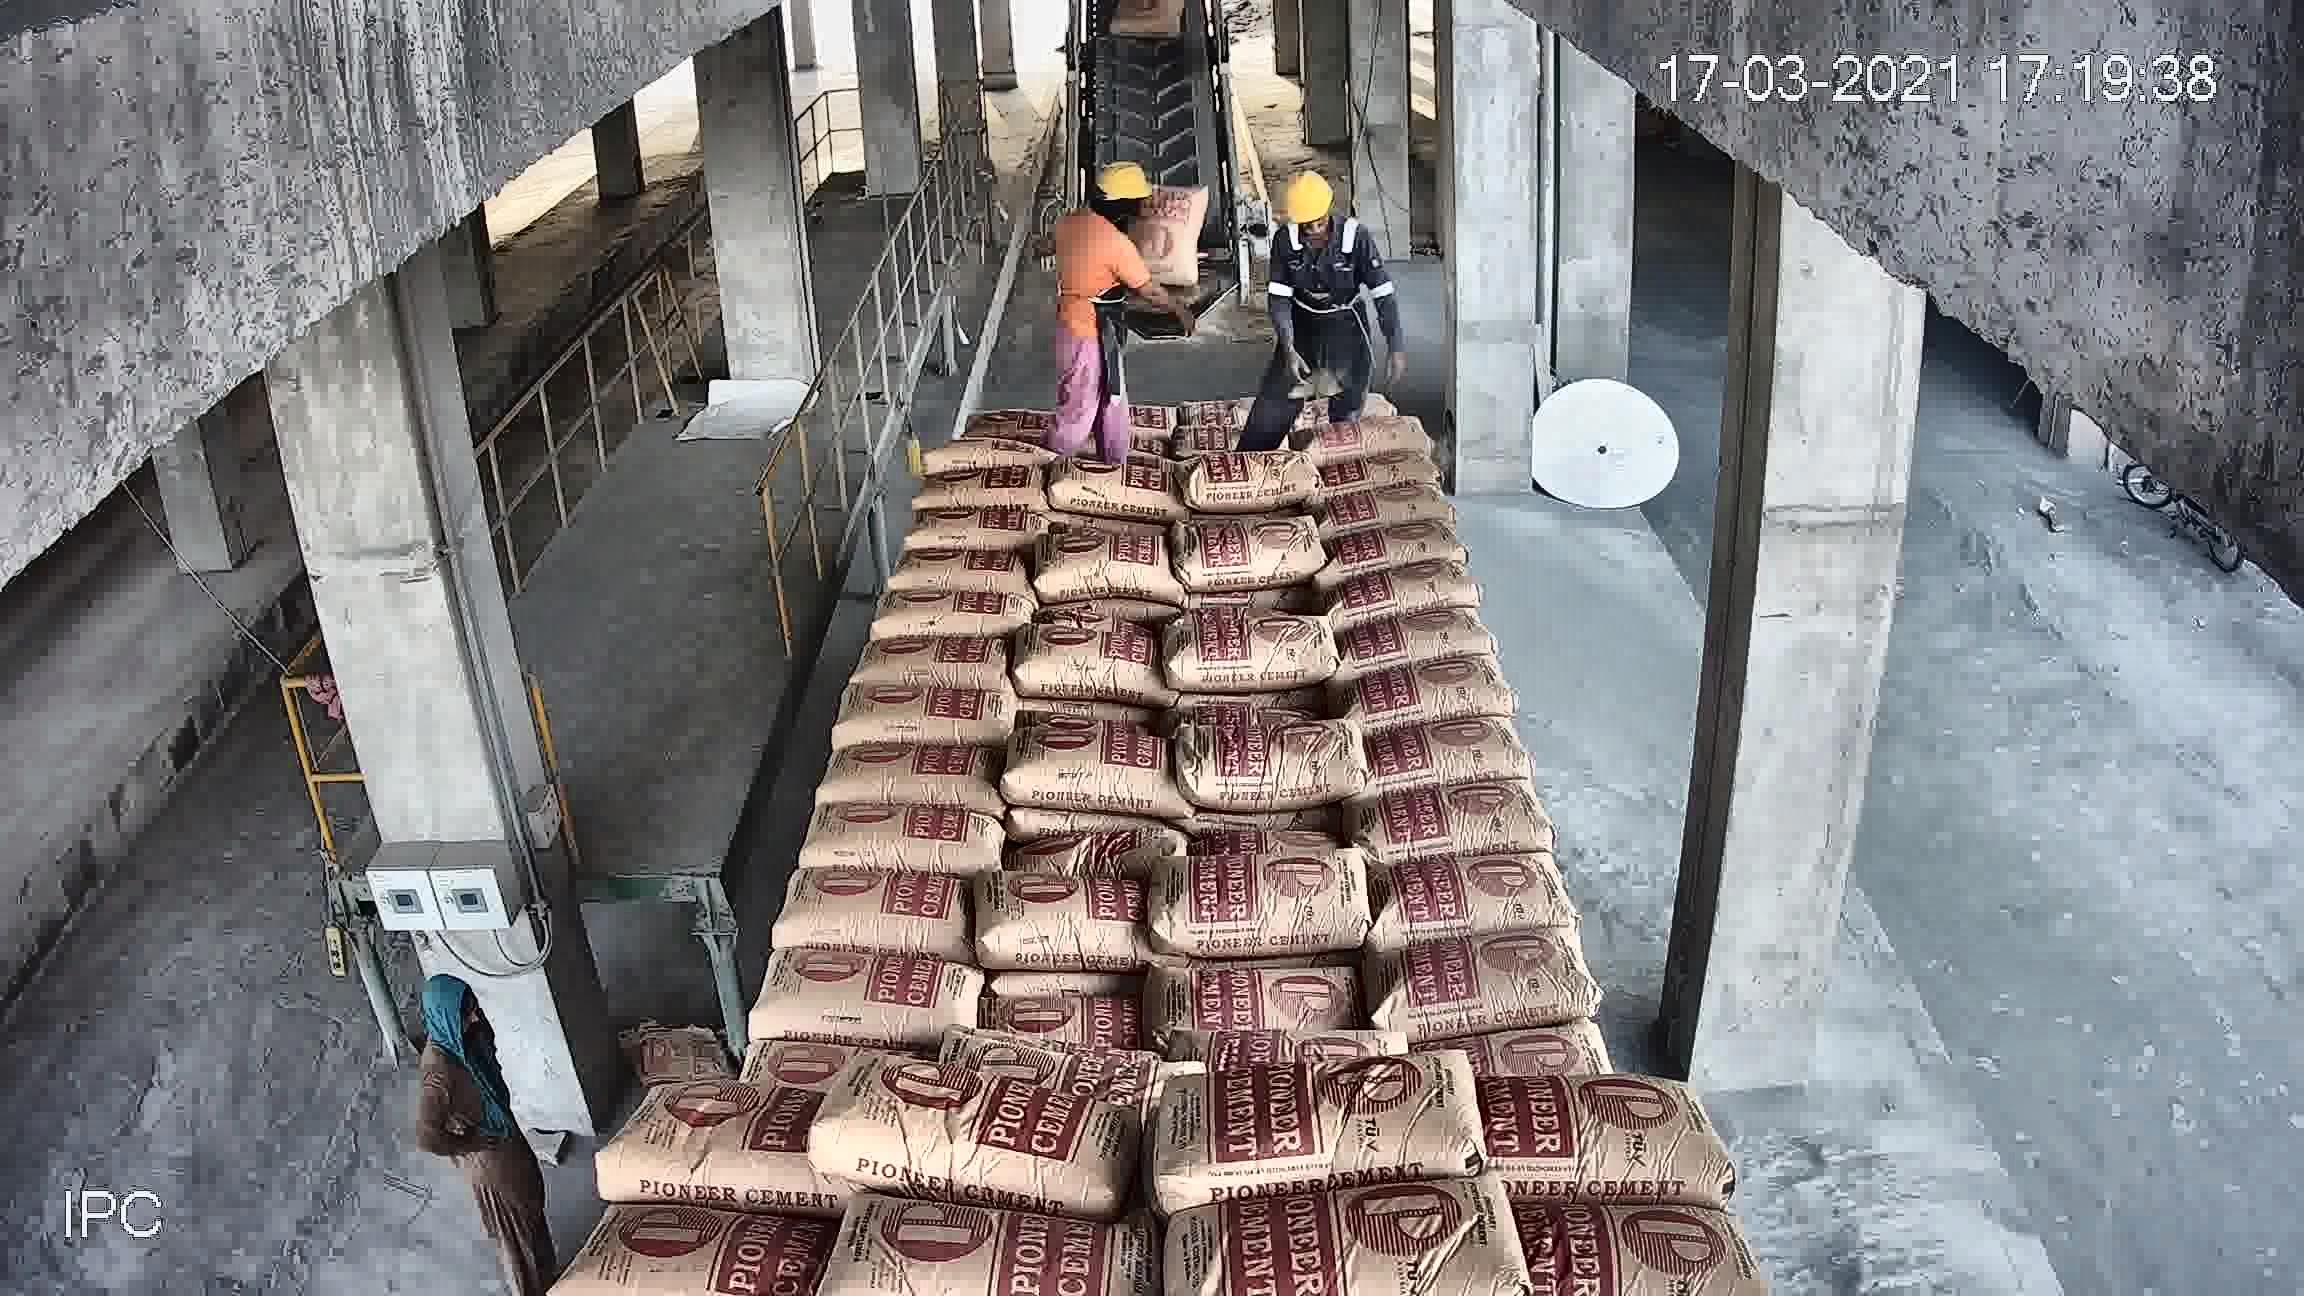bag: (1114, 445, 1317, 567), (1093, 89, 1203, 201)
bag_h: (1124, 1044, 1492, 1214), (798, 1059, 1157, 1195), (1173, 1165, 1537, 1282), (1472, 1059, 1722, 1211), (1128, 840, 1380, 968), (820, 1190, 1150, 1283), (707, 957, 994, 1055), (601, 1076, 809, 1207), (1472, 1201, 1794, 1282), (968, 763, 1207, 869), (1152, 706, 1380, 815), (1359, 919, 1600, 1021), (551, 1204, 791, 1296), (1160, 949, 1374, 1051), (957, 859, 1152, 970), (752, 875, 972, 961), (989, 718, 1193, 805), (813, 794, 984, 896), (1378, 764, 1563, 858), (1336, 720, 1537, 802), (1366, 855, 1589, 927), (1187, 1014, 1429, 1079), (815, 734, 1010, 813), (959, 967, 1157, 1040), (1163, 654, 1340, 731), (946, 1030, 1193, 1086), (1347, 654, 1537, 723), (821, 671, 987, 744), (1010, 606, 1166, 677), (1347, 600, 1495, 673), (995, 671, 1157, 734), (1464, 1017, 1624, 1074), (1331, 502, 1468, 562), (1336, 571, 1487, 623), (1055, 570, 1173, 635), (836, 617, 938, 684), (1343, 457, 1461, 510), (1336, 381, 1431, 443), (1051, 524, 1157, 570), (1348, 424, 1454, 464), (1331, 366, 1416, 399)
belt: (1033, 17, 1264, 377)
